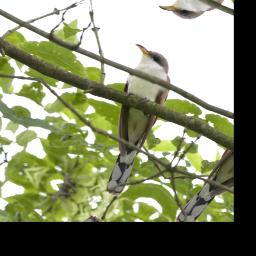Cuckoo: (58, 41, 196, 198)
